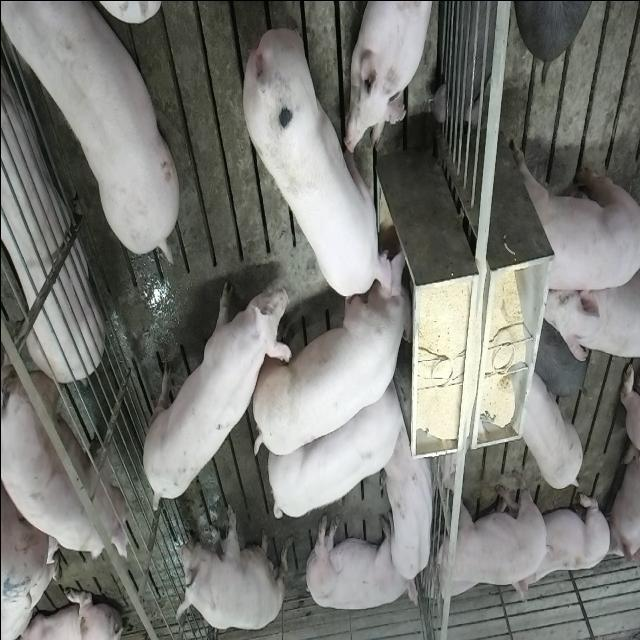Feeding: (240, 21, 396, 303), (253, 253, 420, 462)
Lateral_lying: (0, 32, 101, 382), (302, 512, 418, 612)
Sitting: (175, 503, 285, 632)
Standing: (0, 0, 176, 259), (137, 258, 285, 510), (0, 357, 126, 564), (266, 376, 406, 524), (512, 138, 640, 291), (425, 464, 549, 592), (539, 248, 640, 363), (514, 370, 584, 491)
Sternal_lying: (346, 1, 435, 152), (516, 486, 612, 604), (381, 428, 436, 590)
